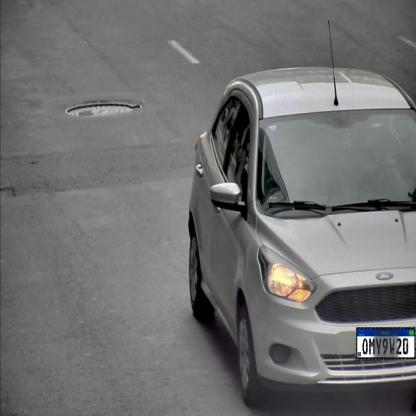PlacaM: (356, 327, 416, 359)
